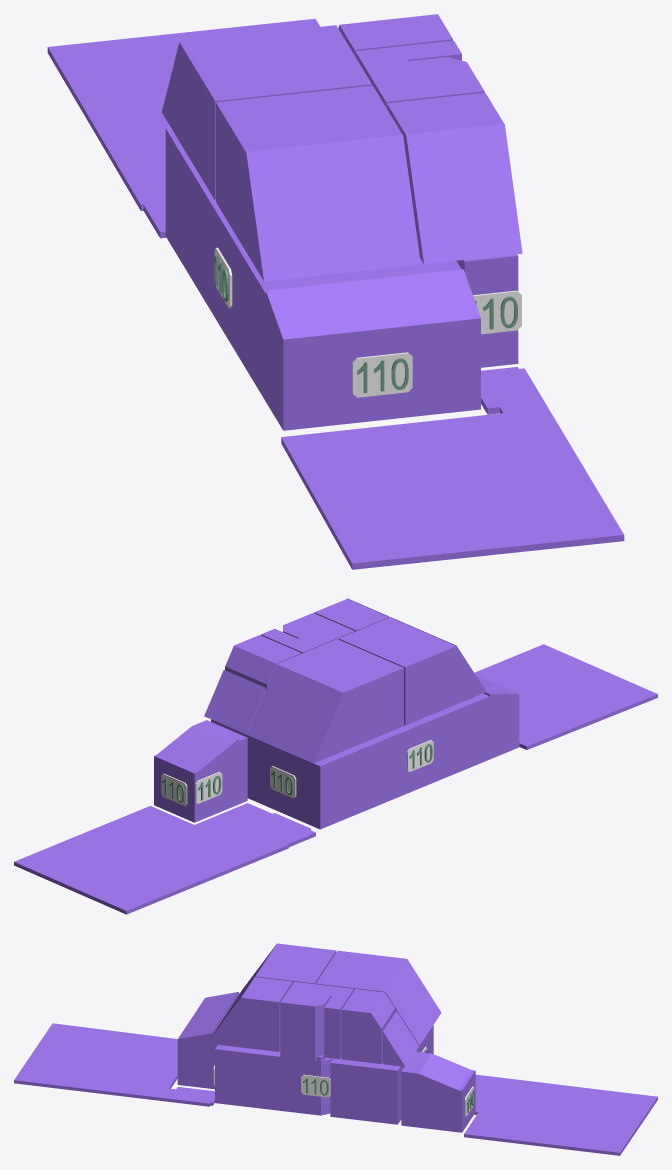
The picture shows the model from 3 angles, top to bottom: view 1: azimuth 30°, elevation 25°; view 2: azimuth 150°, elevation 25°; view 3: azimuth 270°, elevation 25°; orthographic projection. The views are drawn at different scales.
Parts seen in each view (by area): view 1: g_14, g_1, g_8, g_9, g_13, g_7, g_0, g_10, g_4, g_6, g_34, g_11 (+1 smaller); view 2: g_13, g_7, g_14, g_1, g_0, g_8, g_5, g_12, g_6, g_10, g_9, g_11 (+4 smaller); view 3: g_13, g_14, g_7, g_5, g_0, g_9, g_4, g_1, g_6, g_11, g_2, g_8 (+3 smaller).
Boxes of the visible parts, box(x1,y1,x2,y2) form: g_14: box(281, 367, 624, 569); g_1: box(201, 186, 480, 430); g_8: box(216, 85, 420, 281); g_9: box(387, 92, 522, 264); g_13: box(47, 18, 320, 238); g_7: box(161, 25, 371, 200); g_0: box(165, 128, 205, 293); g_10: box(355, 40, 461, 108); g_4: box(456, 254, 518, 367); g_6: box(338, 14, 452, 55); g_34: box(352, 352, 412, 397); g_11: box(408, 57, 484, 96); g_13: box(14, 803, 315, 914); g_7: box(247, 639, 403, 763); g_14: box(474, 644, 657, 749); g_1: box(373, 675, 519, 804); g_0: box(211, 719, 379, 829); g_8: box(339, 617, 486, 725); g_5: box(154, 720, 247, 822); g_12: box(204, 670, 265, 734); g_6: box(225, 635, 301, 690); g_10: box(261, 620, 354, 653); g_9: box(314, 598, 389, 631); g_11: box(283, 613, 329, 638); g_13: box(464, 1074, 657, 1155); g_14: box(14, 1023, 214, 1106); g_7: box(316, 950, 441, 1045); g_5: box(401, 1050, 475, 1132); g_0: box(330, 1025, 433, 1124); g_9: box(207, 977, 292, 1051); g_4: box(215, 1045, 280, 1110); g_1: box(177, 992, 239, 1089); g_6: box(341, 989, 394, 1063); g_11: box(280, 993, 330, 1056); g_2: box(278, 1052, 332, 1115); g_8: box(222, 943, 336, 1019).
Size of the model in its own units: 13.25 by 5.36 by 27.85.
